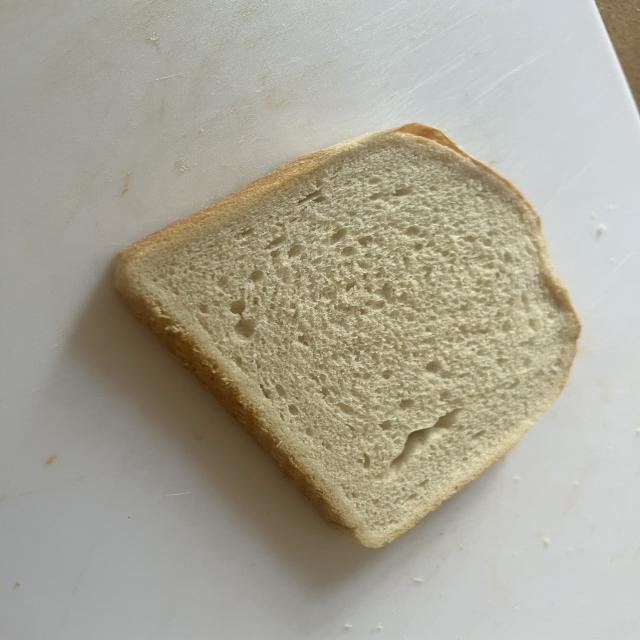sliced_bread: (116, 124, 579, 547)
